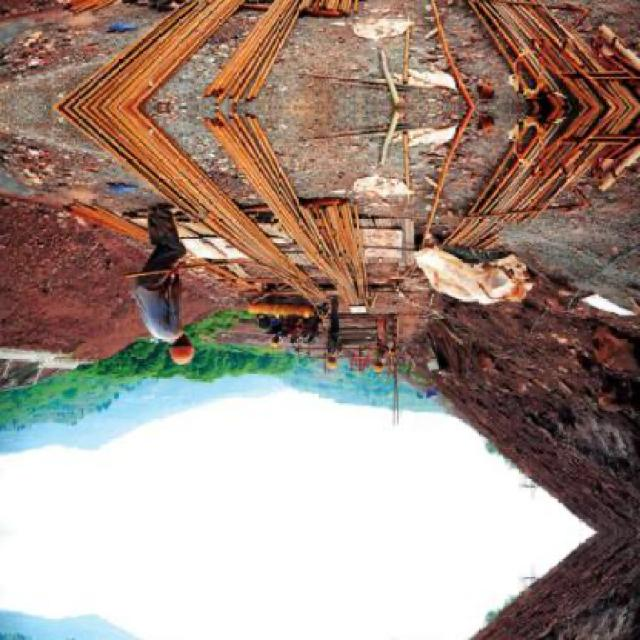con casco: (169, 313, 224, 376)
